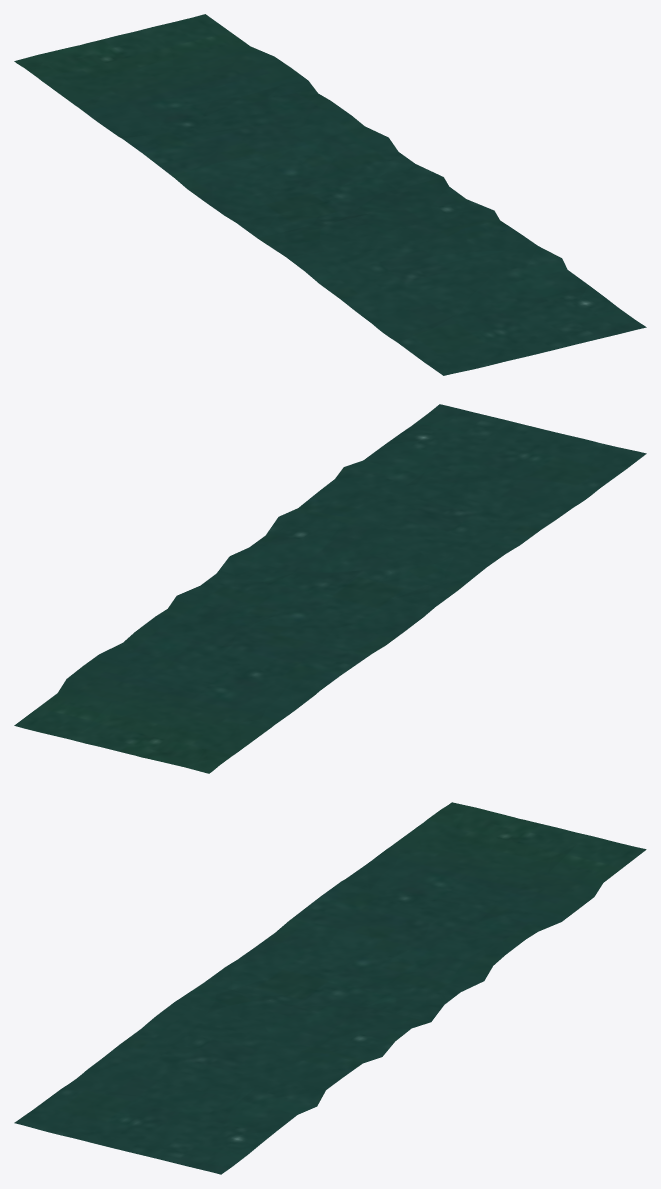
The picture shows the model from 3 angles, top to bottom: view 1: azimuth 30°, elevation 25°; view 2: azimuth 150°, elevation 25°; view 3: azimuth 330°, elevation 25°; orthographic projection.
Bounding box in the file's own units: 29.19 × 0.7604 × 104.
1 material, 1 textured.
